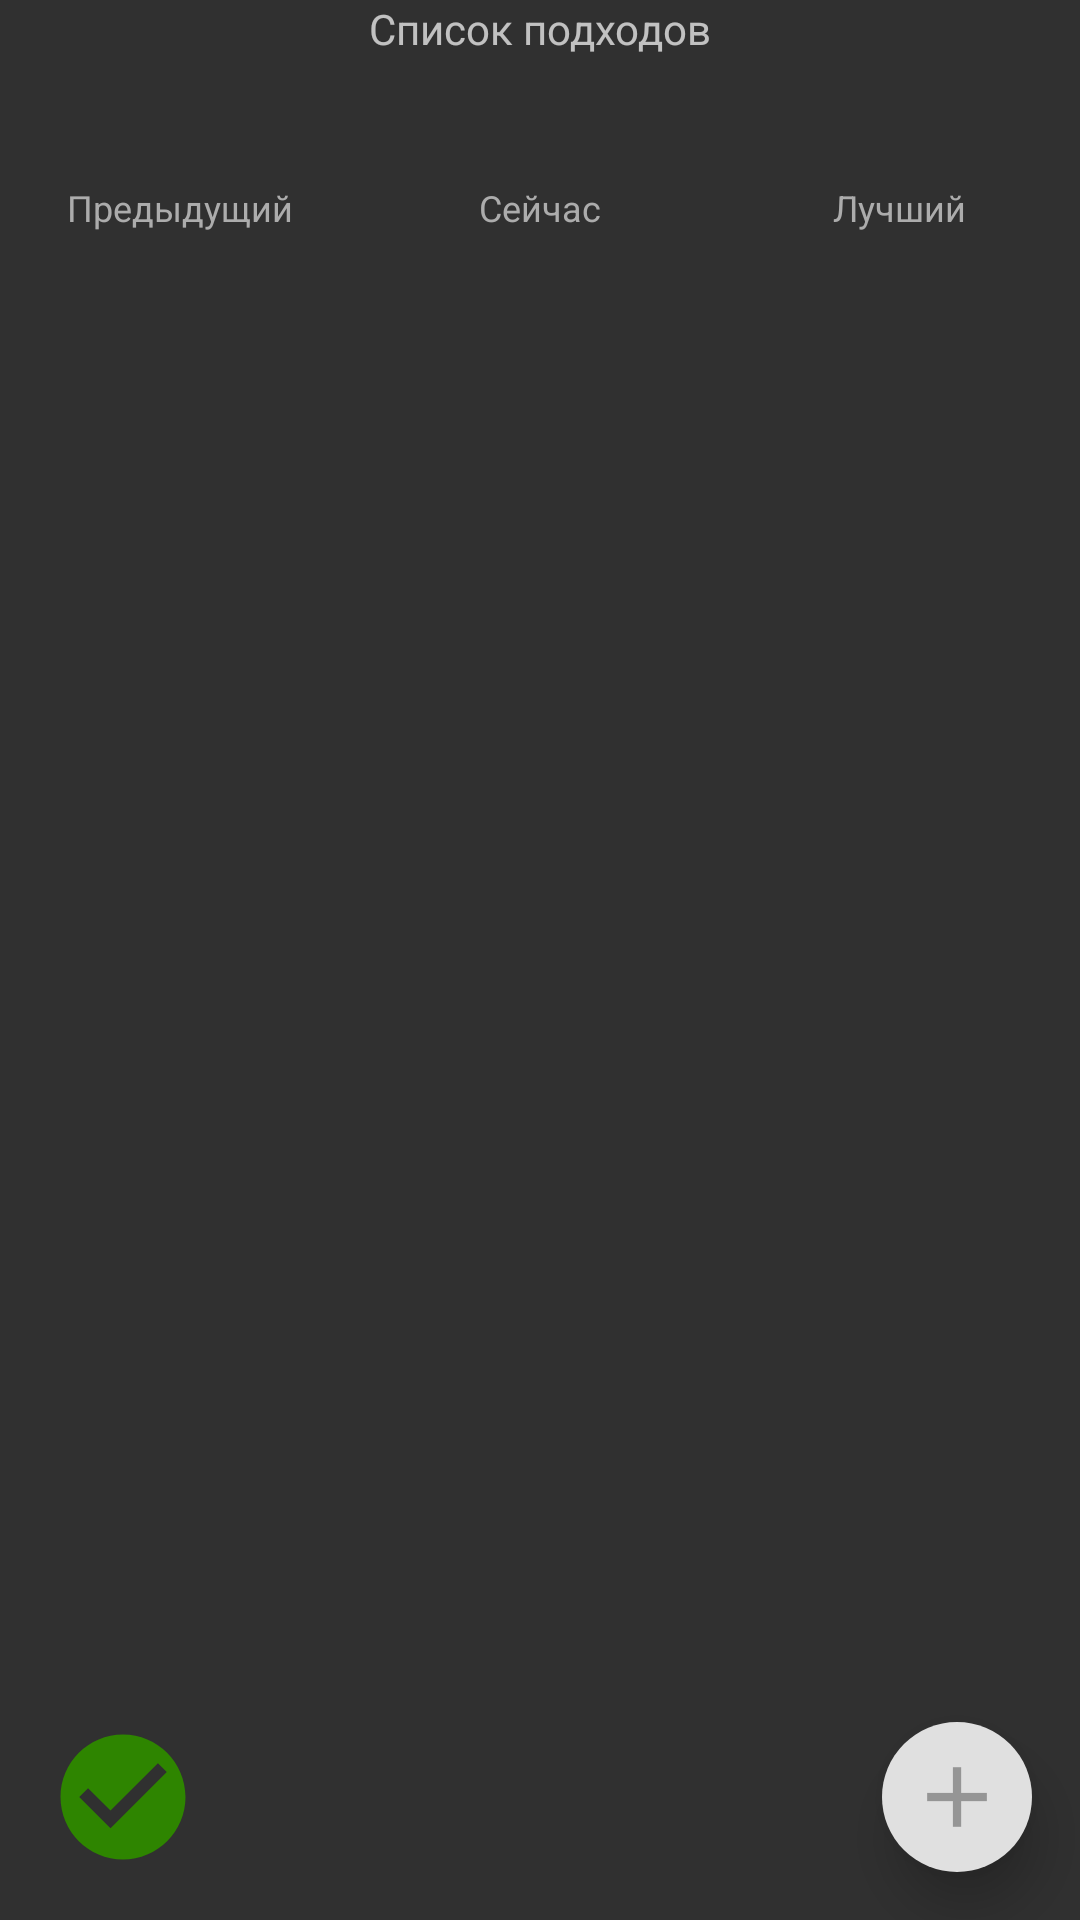

Named icons in this screenshot (1080 x 1920) and their bounding boxes, (x1, y1, x2, y2):
done: (60, 1734, 186, 1860)
